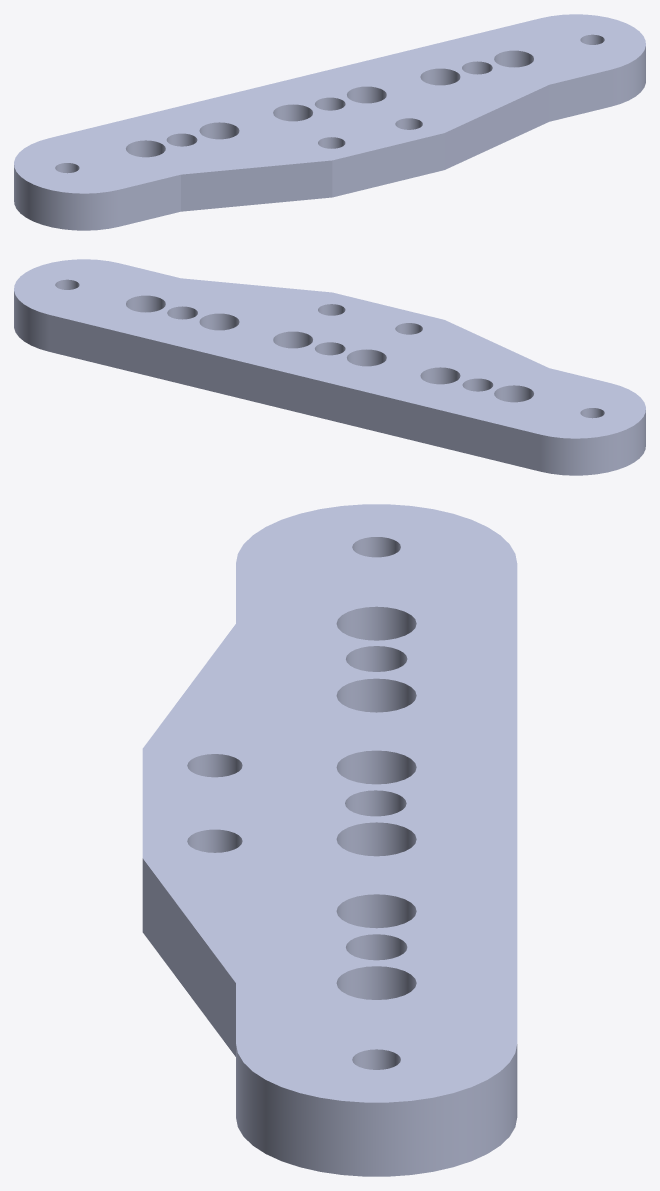
The model's file is Baseplate.glb.
The picture shows the model from 3 angles, top to bottom: view 1: azimuth 30°, elevation 25°; view 2: azimuth 150°, elevation 25°; view 3: azimuth 270°, elevation 25°; orthographic projection. The views are drawn at different scales.
Visible parts, largest first — view 1: Baseplate; view 2: Baseplate; view 3: Baseplate.
Part boxes in pixels (left/top/right/bottom): Baseplate: left=14, top=14, right=645, bottom=230; Baseplate: left=14, top=259, right=645, bottom=475; Baseplate: left=142, top=504, right=517, bottom=1176.
Bounding box in the file's own units: 0.0865 × 0.005 × 0.0229.
